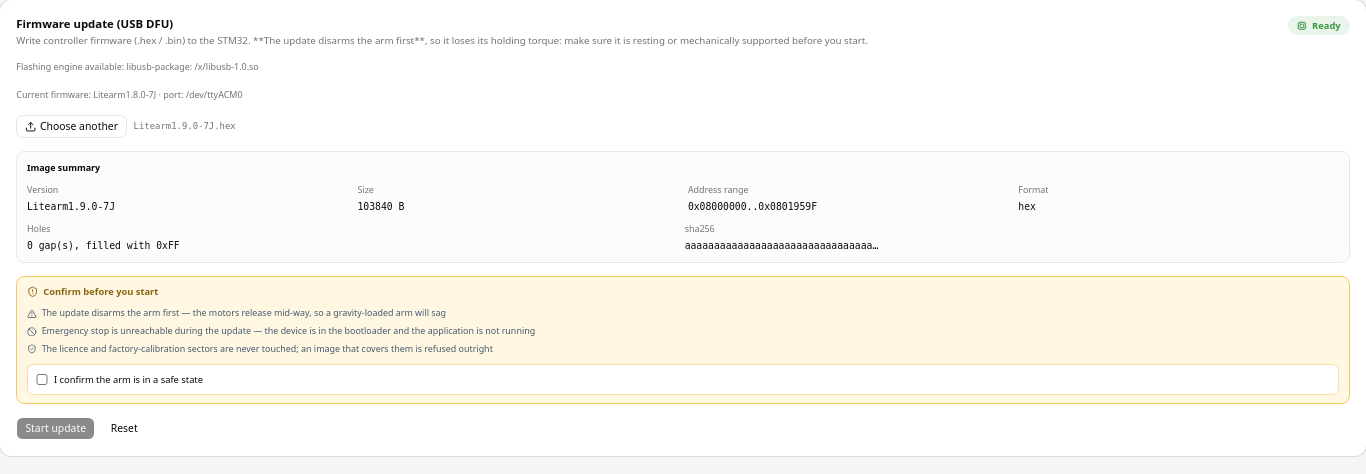
FirmwareSection › keeps Start disabled until the operator confirms the arm is supported
Expected: the button with test id "firmware-start" is disabled, [16,417,95,440]
Click the checkbox with test id "firmware-safety-arm" at (42, 379), box [36,374,48,385]
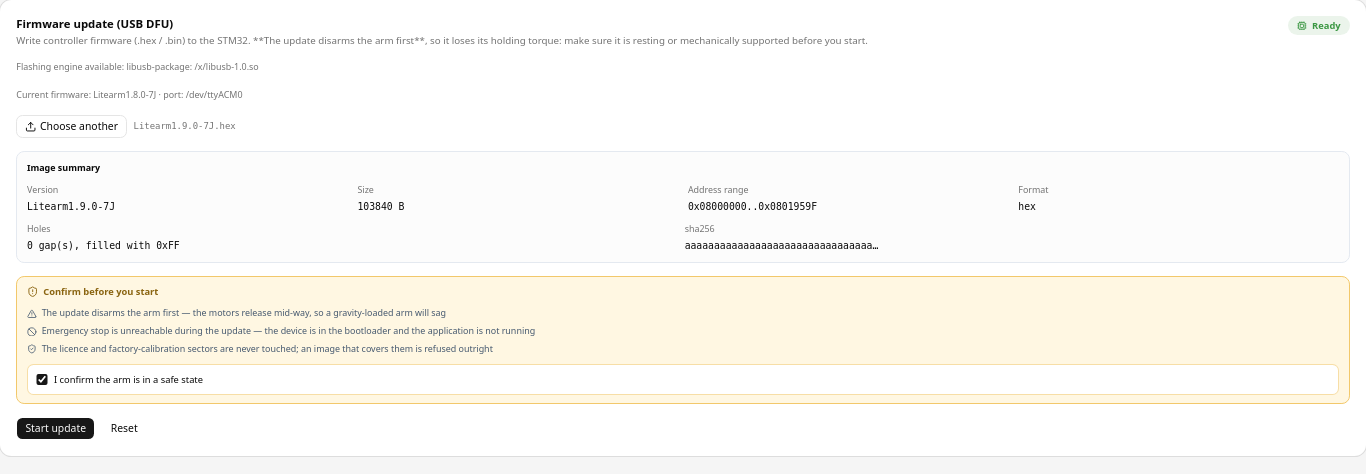
Now the checkbox with test id "firmware-safety-arm" is checked, box [36,374,48,385]
Now the button with test id "firmware-start" is enabled, box [16,417,95,440]
